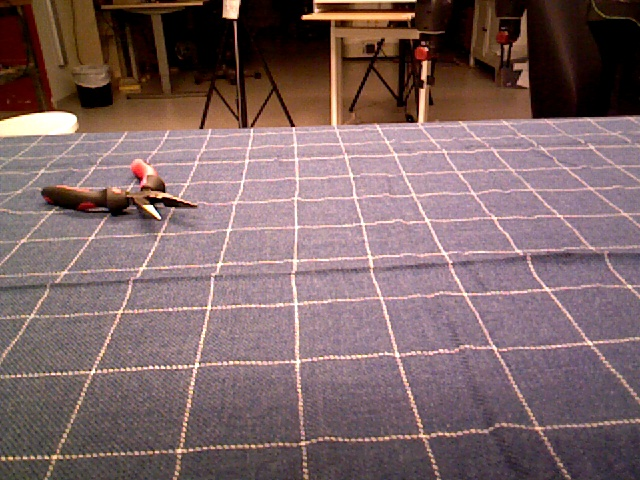plier1: (41, 158, 199, 223)
